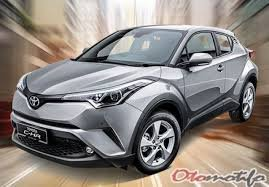mobil: (9, 23, 259, 170)
